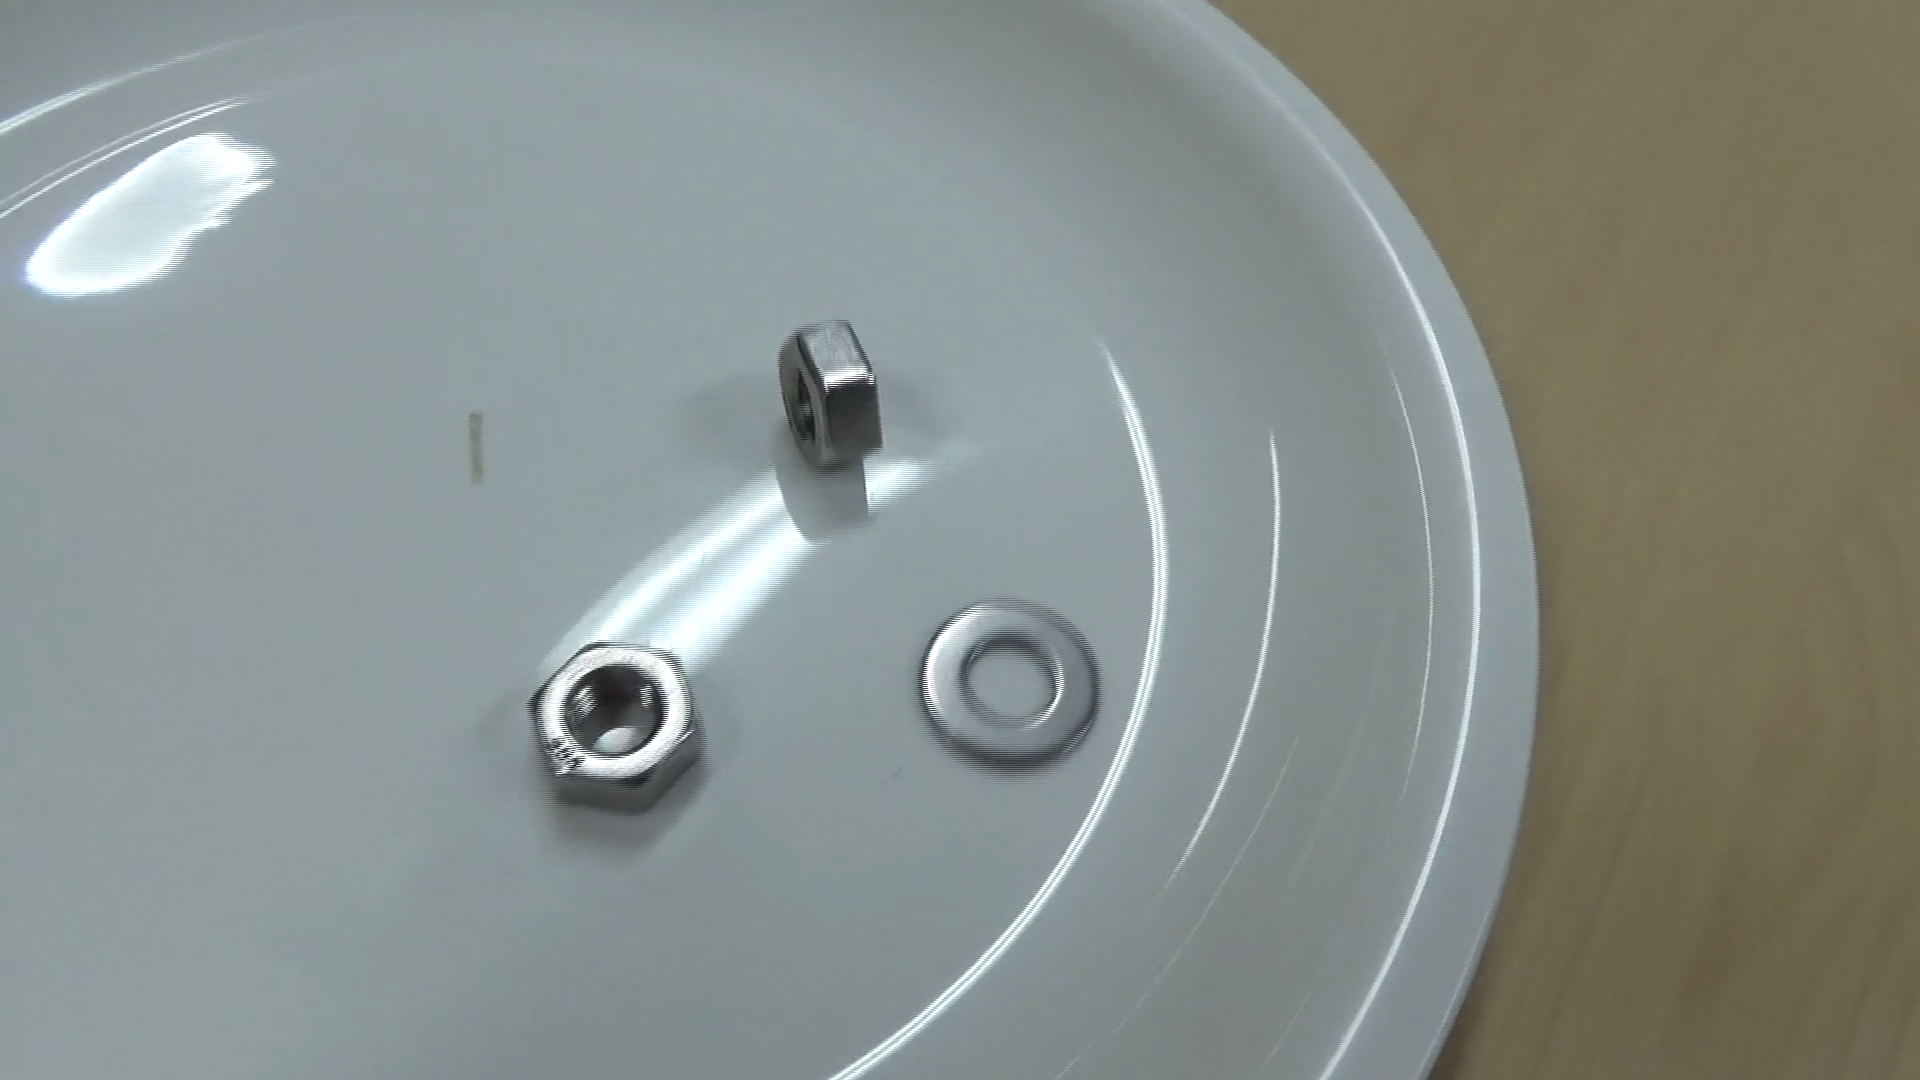nut: (526, 638, 711, 818), (769, 316, 889, 473)
washer: (914, 593, 1098, 771)
